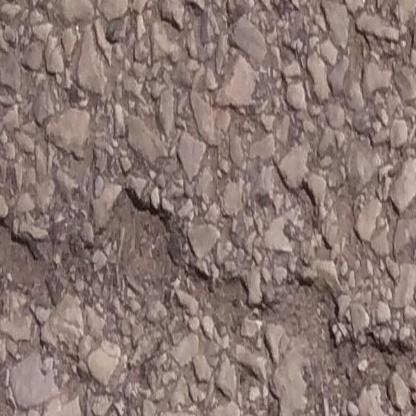Cracks: (0, 190, 416, 383)
